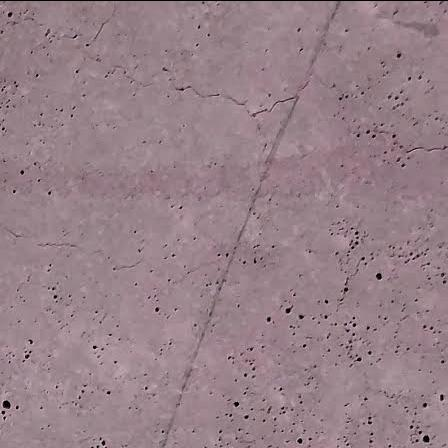crack: (79, 40, 297, 127), (0, 217, 149, 274), (332, 114, 448, 164), (322, 250, 371, 324), (1, 16, 112, 47)
